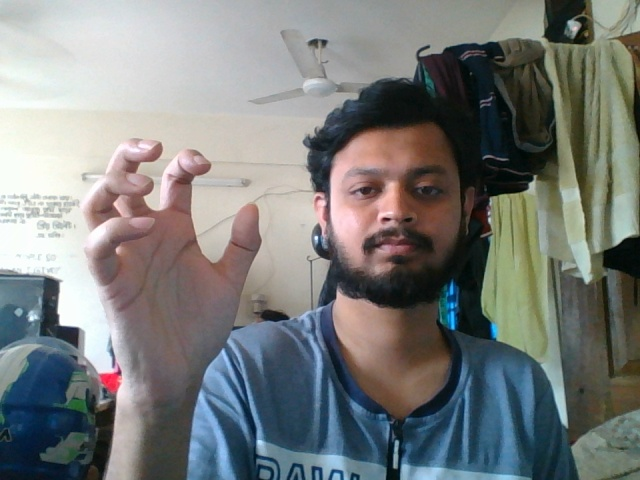ja: (68, 129, 269, 424)
